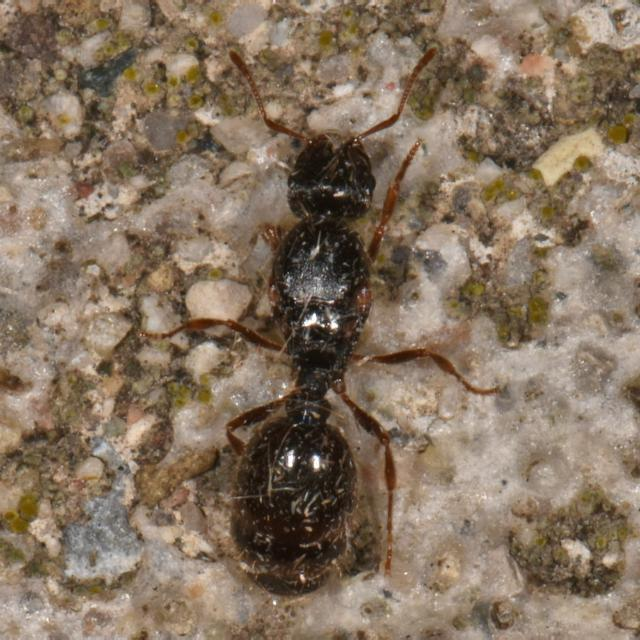Tetramorium: (188, 52, 436, 598)
